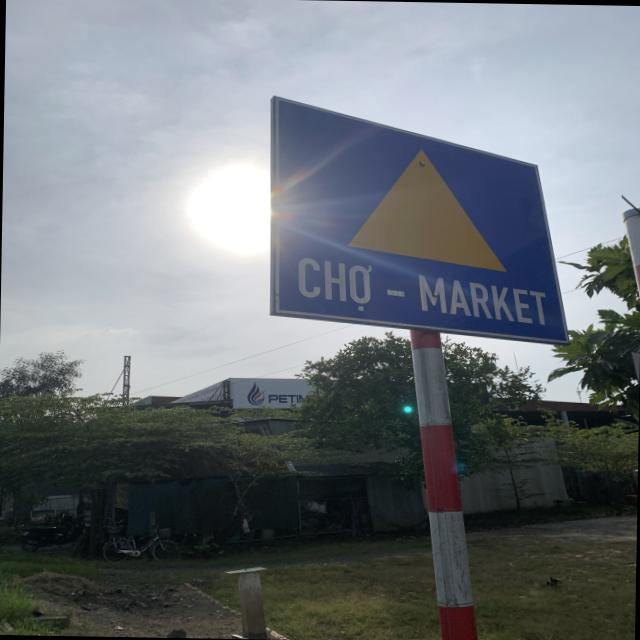Cho_Quay_Xe: (267, 95, 570, 344)
